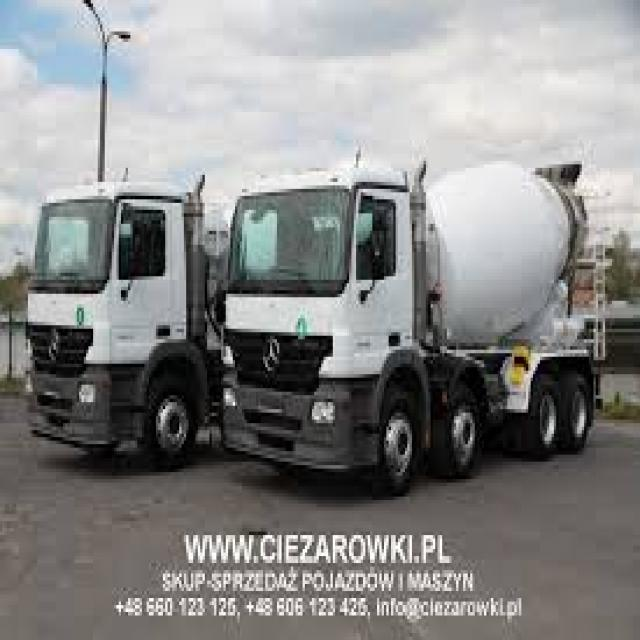Mixer Truck: (220, 156, 612, 500), (21, 172, 256, 464)
